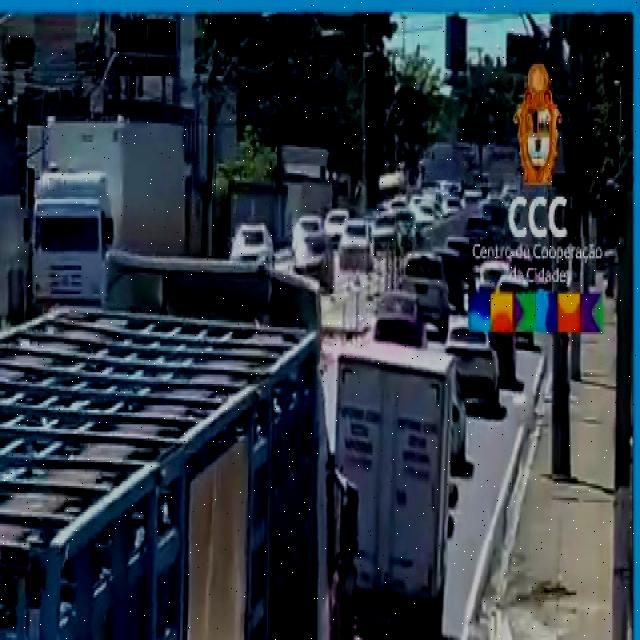car: (446, 308, 504, 419), (290, 225, 336, 301), (232, 216, 276, 277)
truck: (0, 310, 325, 640), (329, 334, 454, 640), (35, 116, 187, 316)
